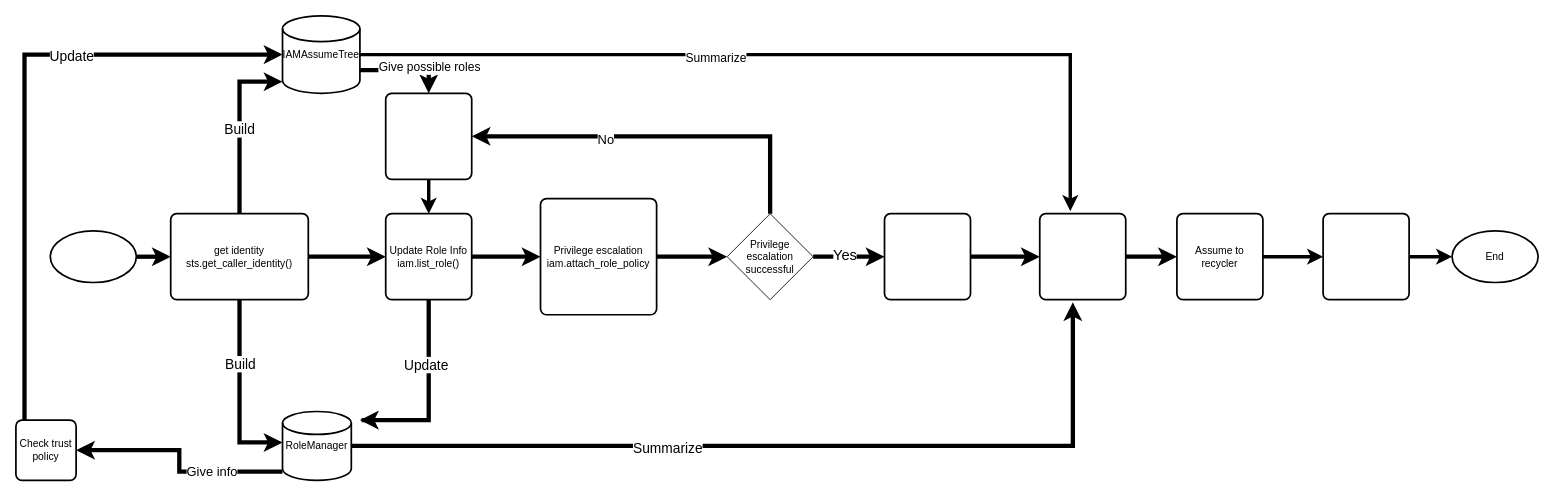
Image size: 1553x495. Some labels were removed from this diagram. The shapes that lost their labels are listed below. From the top down, each one's centre as x and y in pixels, then its label:
[428,136]: Try to assume sts.assume_role
[93,256]: Start
[927,256]: Establish backdoor role
[1082,256]: Summarize information
[1366,256]: Put info to S3 bucket
